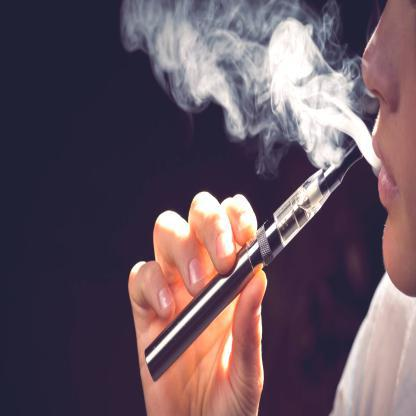smoke: (119, 0, 371, 167)
